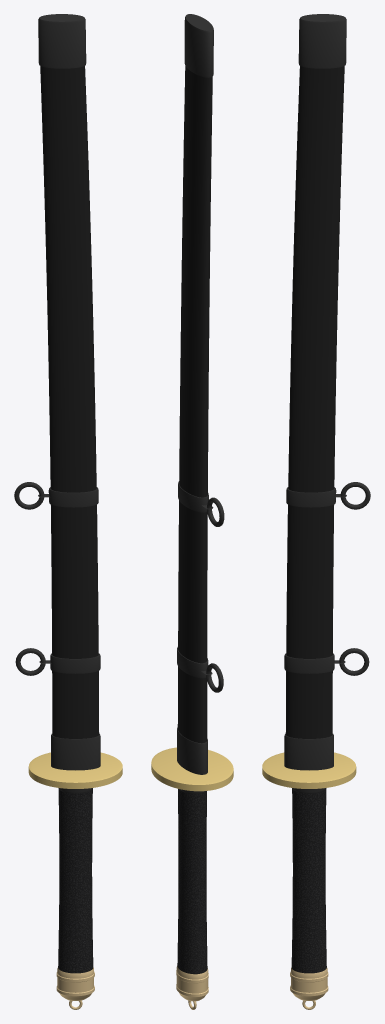
File: Hwando_Sheathed.fbx
3 renders of one model, left to right at view 1: azimuth 90°, elevation 25°; view 2: azimuth 210°, elevation 25°; view 3: azimuth 270°, elevation 25°, orthographic.
Visible parts, largest first — view 1: Hwando_Scabbard, Hwando_Sword; view 2: Hwando_Scabbard, Hwando_Sword; view 3: Hwando_Scabbard, Hwando_Sword.
Part boxes in pixels (<box>): Hwando_Scabbard: <box>14,14,100,770</box>; Hwando_Sword: <box>28,752,122,1009</box>; Hwando_Scabbard: <box>177,14,224,774</box>; Hwando_Sword: <box>151,747,233,1009</box>; Hwando_Scabbard: <box>284,14,370,770</box>; Hwando_Sword: <box>262,752,356,1009</box>.
Bounding box in the file's own units: 0.068 × 0.9549 × 0.0947.
Materials: 7 (1 with a texture image).
